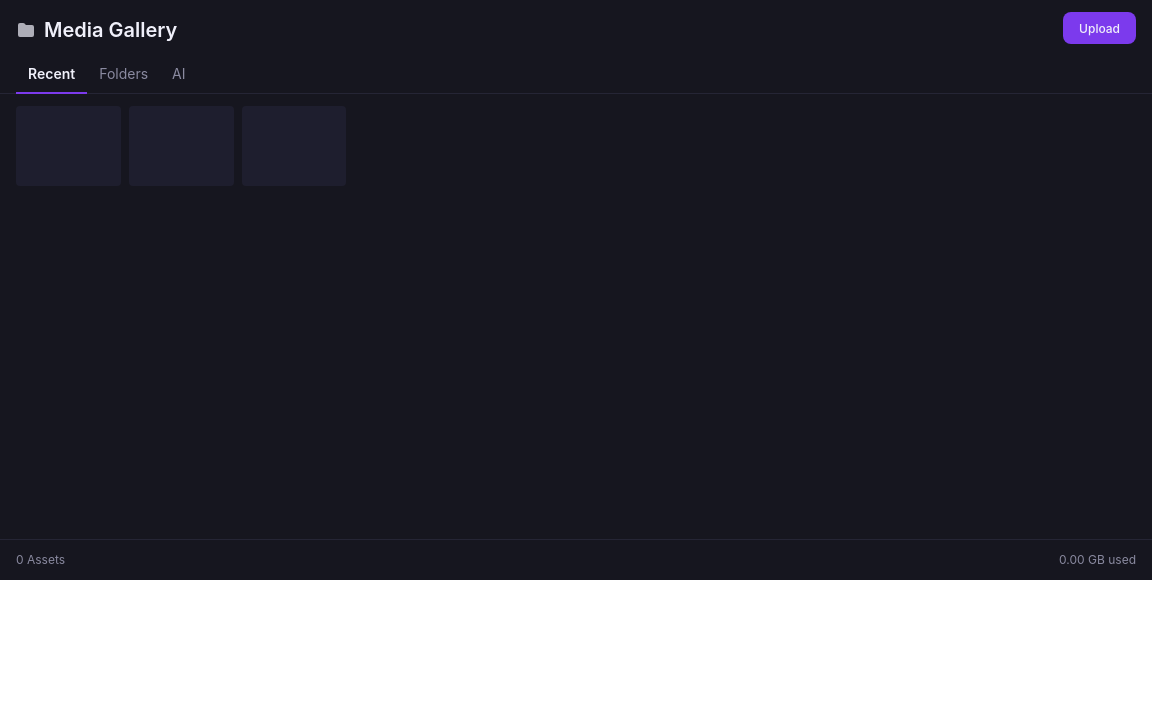
Test case: MediaGalleryPanel › should show Folders placeholder when the Folders tab is clicked
Click the tab "Folders" at [124, 75], box [87,56,160,94]
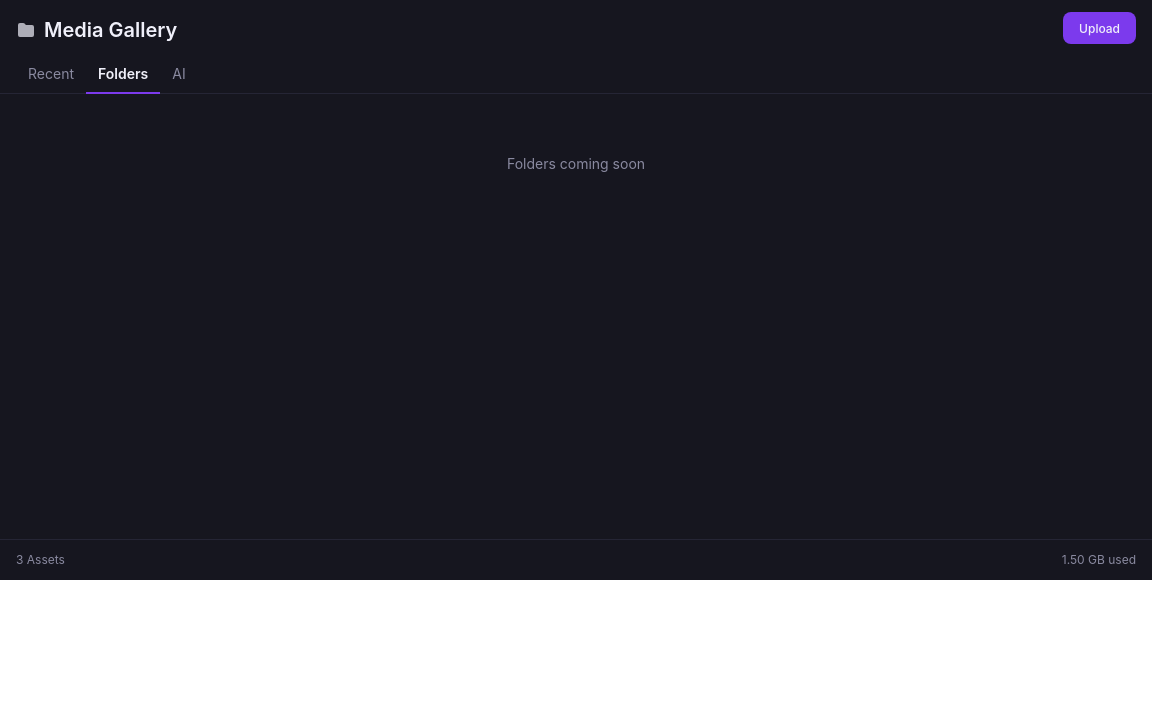
Expected: the text "Folders coming soon" is shown, [507,155,645,172]
Expected: the panel with test id "tabpanel-recent" is gone
